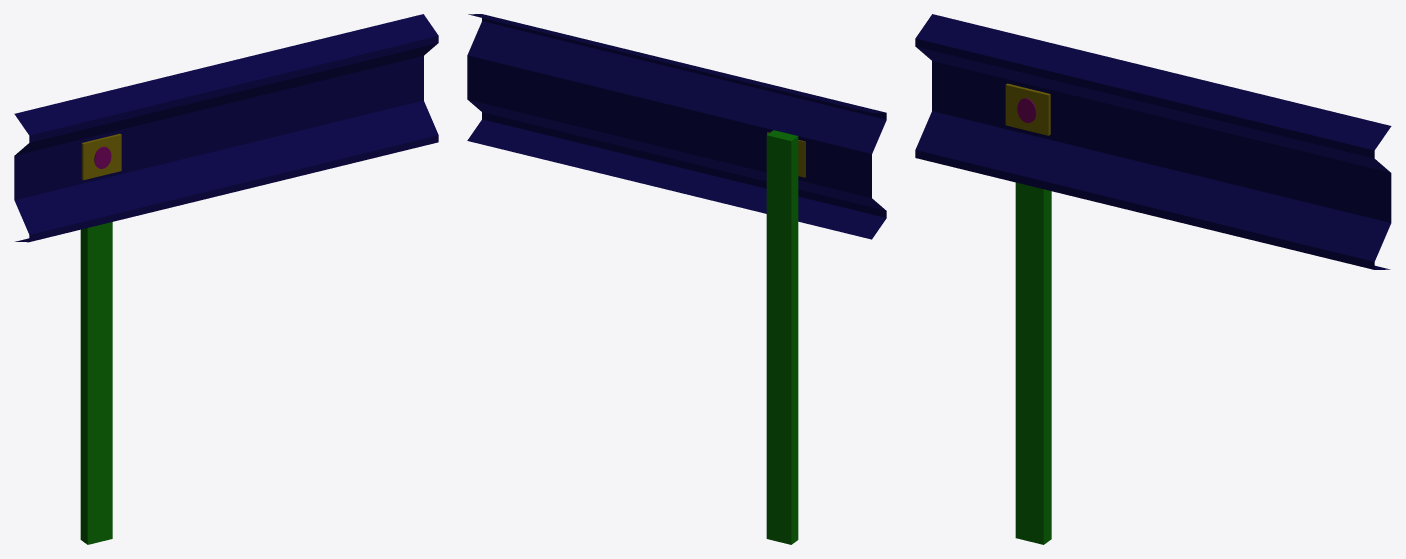
The model's file is LowPoly_Middle GuardRail (UVW2).FBX.
3 views of the same model, side by side, from view 1: azimuth 30°, elevation 25°; view 2: azimuth 150°, elevation 25°; view 3: azimuth 330°, elevation 25° (orthographic). The views are drawn at different scales.
Visible parts, largest first — view 1: LowPoly_Middle Guardrail; view 2: LowPoly_Middle Guardrail; view 3: LowPoly_Middle Guardrail.
Boxes of the visible parts, bbox=[...] form: LowPoly_Middle Guardrail: bbox=[14, 14, 438, 544]; LowPoly_Middle Guardrail: bbox=[467, 14, 886, 544]; LowPoly_Middle Guardrail: bbox=[915, 14, 1391, 544].
Size of the model in its own units: 1 by 1.05 by 0.0955.
